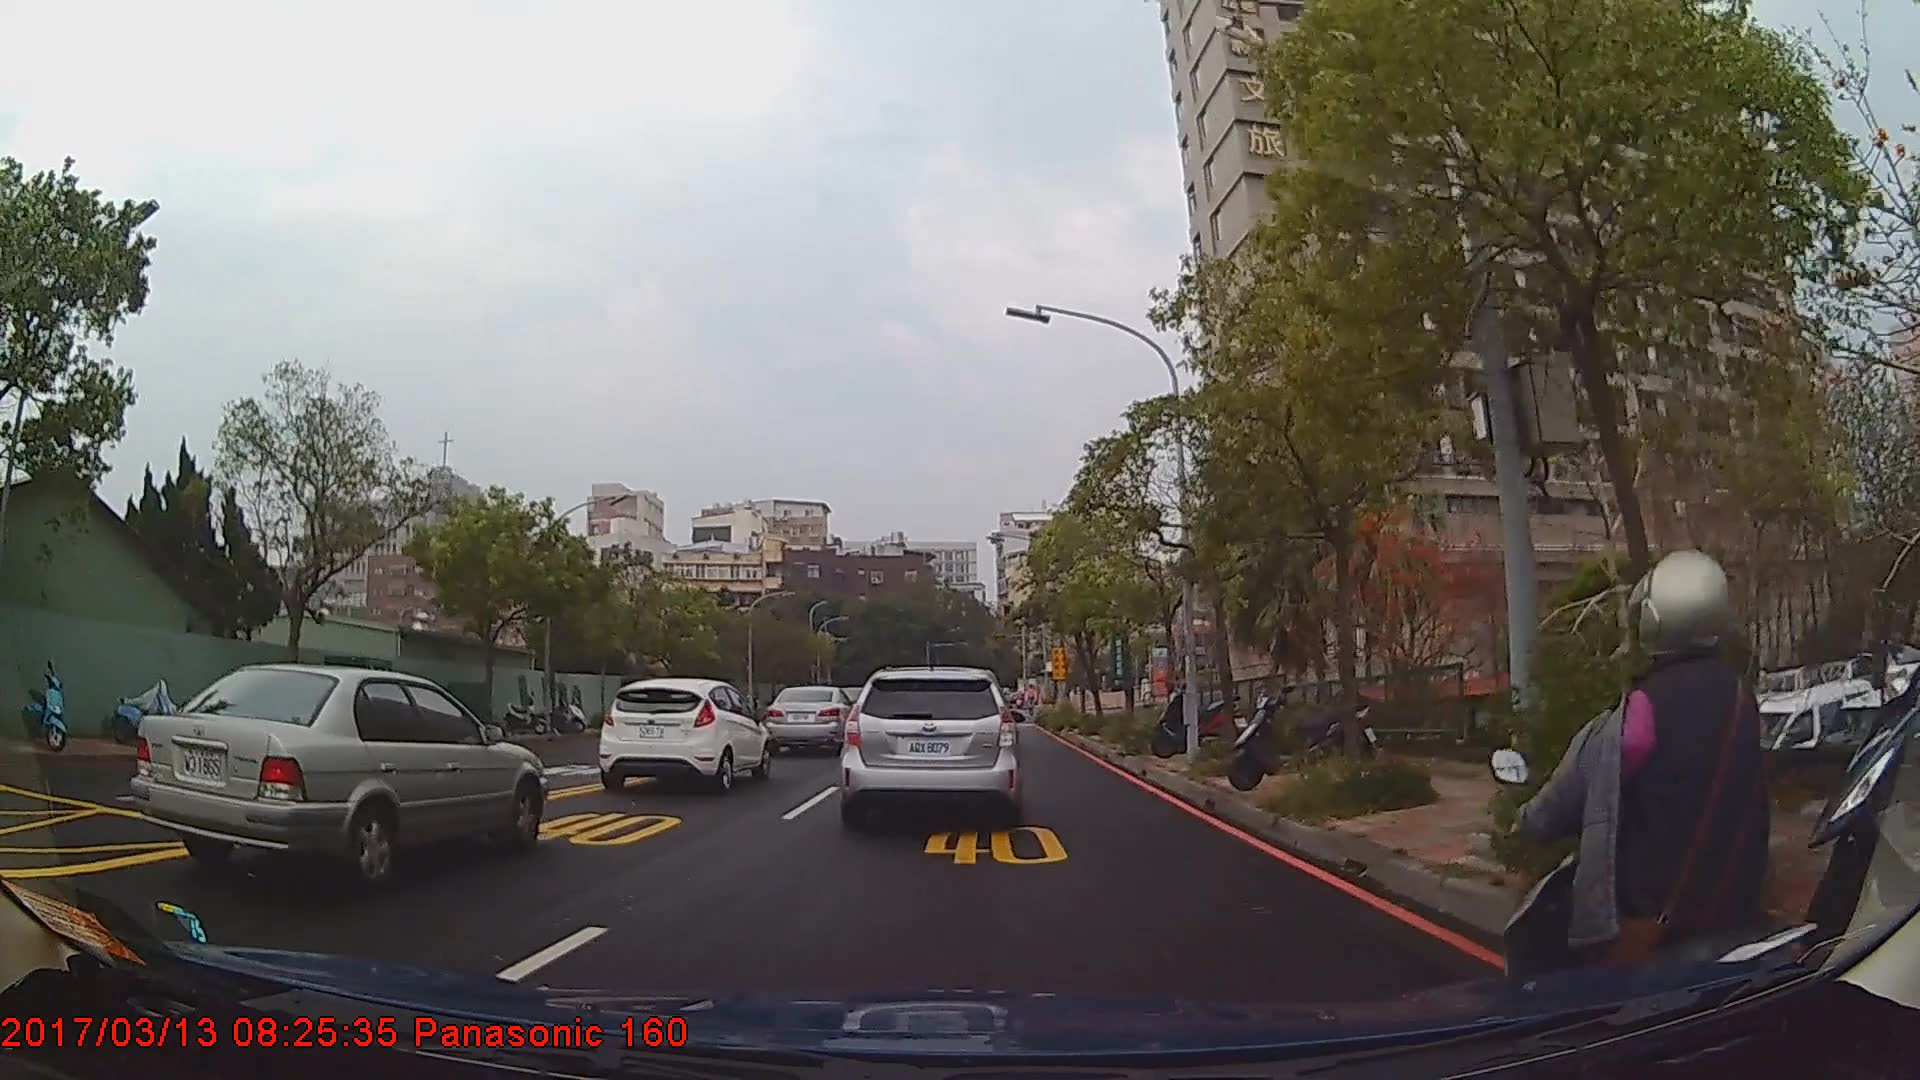rider: (1495, 545, 1826, 1057)
vehicle: (127, 662, 551, 884), (841, 663, 1017, 823), (597, 676, 772, 790), (767, 685, 860, 754)
